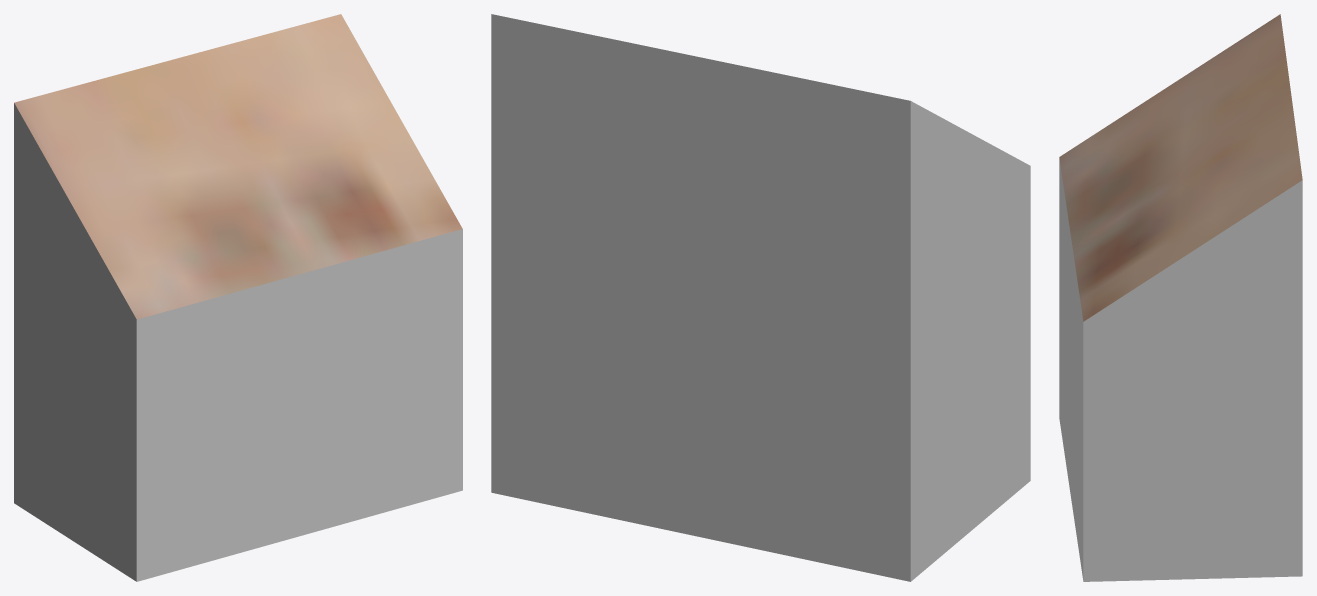
Rendered from DEBW_0010007THYI.gltf.
3 renders of one model, left to right at view 1: azimuth 30°, elevation 25°; view 2: azimuth 150°, elevation 25°; view 3: azimuth 270°, elevation 25°, orthographic. The views are drawn at different scales.
Parts seen in each view (by area): view 1: Z_UP; view 2: Z_UP; view 3: Z_UP.
Part boxes in pixels (bbox=[...]): Z_UP: bbox=[14, 14, 462, 581]; Z_UP: bbox=[491, 14, 1030, 581]; Z_UP: bbox=[1059, 14, 1302, 581].
Bounding box in the file's own units: 3.99 × 4.37 × 2.42.
2 materials, 1 textured.
